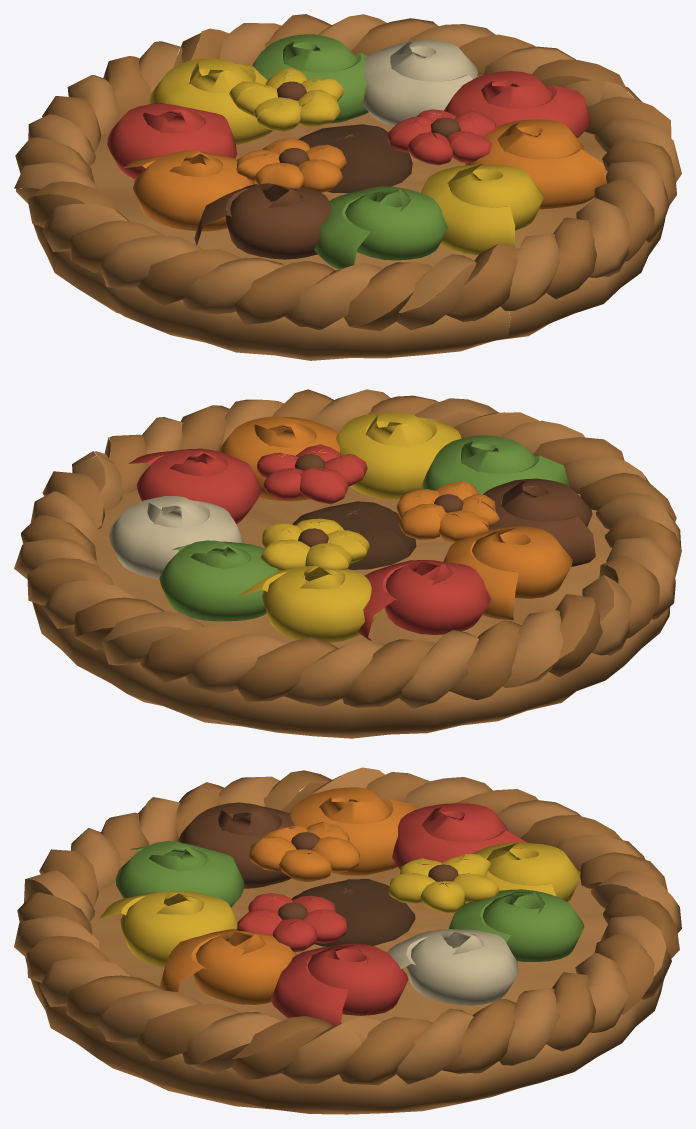
Rendered from bread.glb.
3 views of the same model, one above another, from view 1: azimuth 30°, elevation 25°; view 2: azimuth 150°, elevation 25°; view 3: azimuth 270°, elevation 25° (orthographic).
Parts seen in each view (by area): view 1: bread_toppings, bread_braid, bread_base, bread_center; view 2: bread_toppings, bread_braid, bread_base, bread_center; view 3: bread_toppings, bread_braid, bread_base, bread_center.
Part boxes in pixels (x1,y1,x2,y2): bread_toppings: [107, 34, 606, 269]; bread_braid: [14, 14, 681, 331]; bread_base: [33, 75, 665, 360]; bread_center: [298, 124, 412, 193]; bread_toppings: [109, 412, 595, 642]; bread_braid: [14, 389, 681, 708]; bread_base: [32, 486, 670, 738]; bread_center: [288, 501, 416, 569]; bread_toppings: [98, 787, 584, 1027]; bread_braid: [14, 767, 681, 1085]; bread_base: [25, 867, 663, 1114]; bread_center: [291, 879, 415, 946].
Bounding box in the file's own units: 0.7601 × 0.1526 × 0.761.
